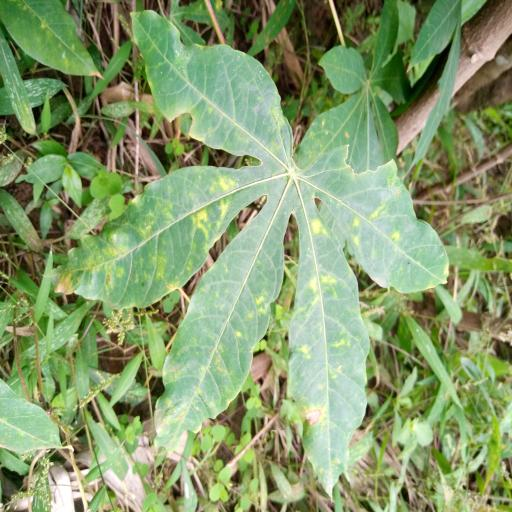Cassava_Mosaic: (48, 0, 452, 501)
